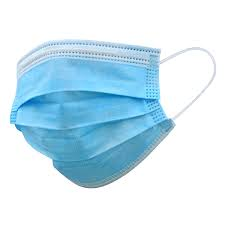FaceMask: (10, 39, 176, 188)
